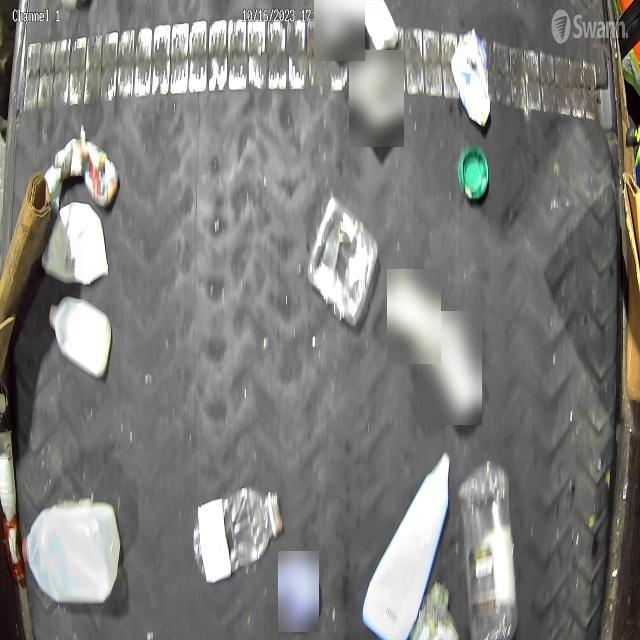milk_jug: (22, 501, 122, 606), (48, 294, 112, 380)
plastic_bottle: (456, 458, 518, 640), (192, 486, 284, 585)
